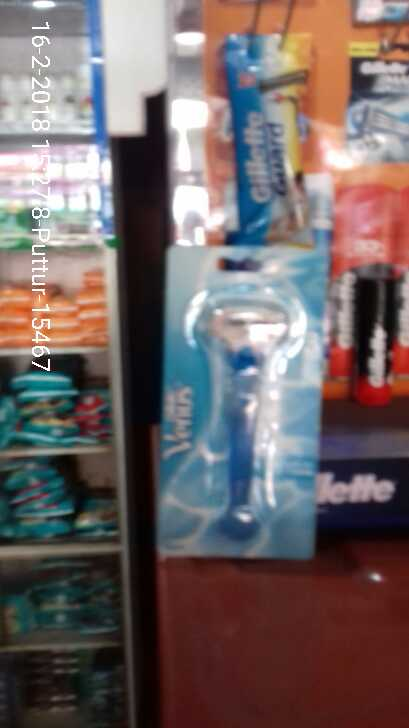beauty: (161, 241, 318, 560), (220, 37, 320, 247), (350, 40, 409, 159), (353, 270, 393, 386)
